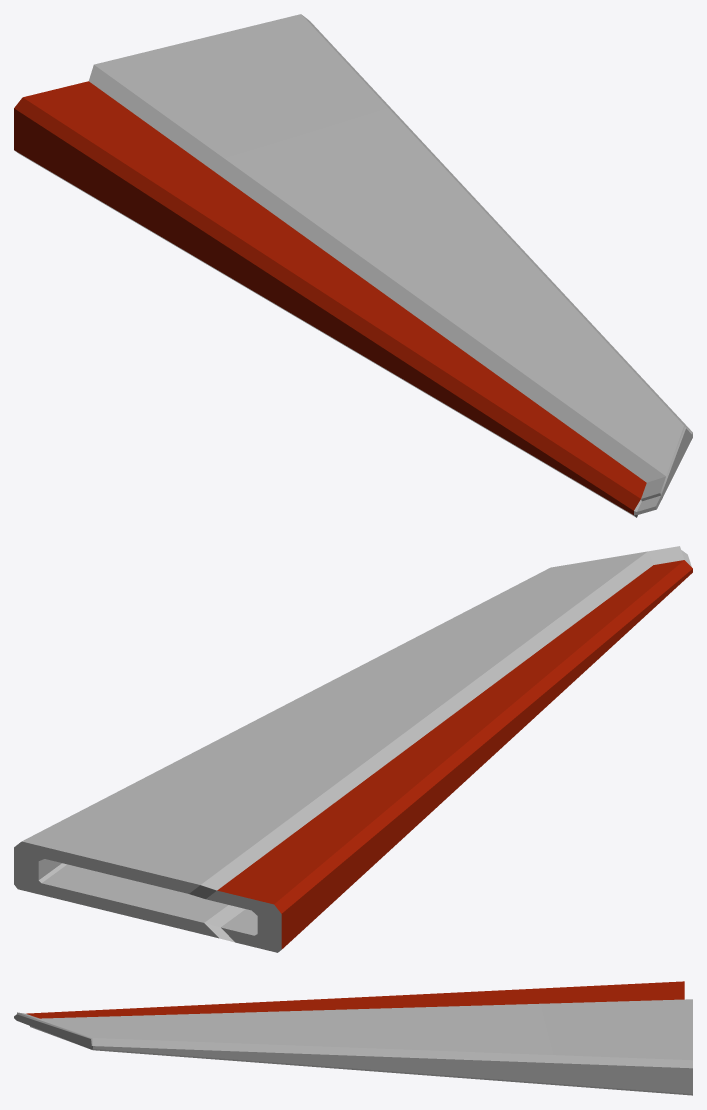
Rendered from wing_1.fbx.
3 views of the same model, one above another, from view 1: azimuth 30°, elevation 25°; view 2: azimuth 150°, elevation 25°; view 3: azimuth 270°, elevation 25° (orthographic). The views are drawn at different scales.
Parts seen in each view (by area): view 1: Wing; view 2: Wing; view 3: Wing.
Part boxes in pixels (x1,y1,x2,y2): Wing: (14, 14, 692, 517); Wing: (14, 546, 692, 952); Wing: (14, 981, 692, 1095).
Bounding box in the file's own units: 21.56 × 5.88 × 69.43.
